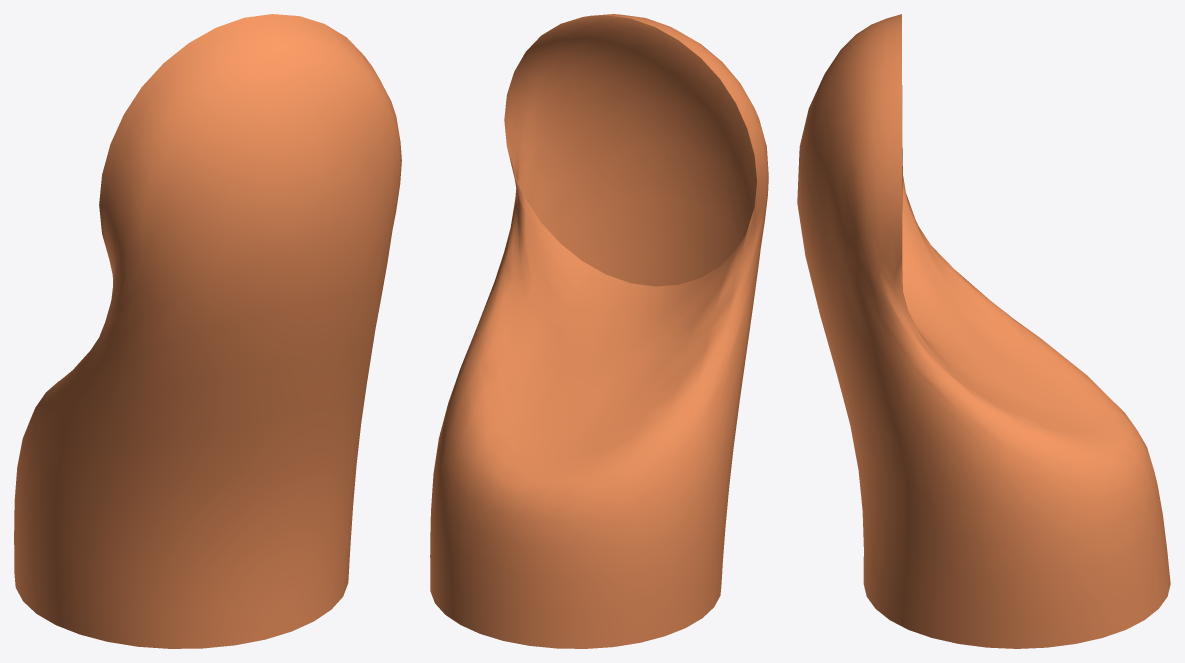
The model's file is arm_segment_last.dae.
3 views of the same model, side by side, from view 1: azimuth 30°, elevation 25°; view 2: azimuth 150°, elevation 25°; view 3: azimuth 270°, elevation 25° (orthographic). The views are drawn at different scales.
Parts seen in each view (by area): view 1: last_segment; view 2: last_segment; view 3: last_segment.
Part boxes in pixels (x1,y1,x2,y2): last_segment: [14, 14, 401, 648]; last_segment: [430, 14, 768, 648]; last_segment: [797, 14, 1170, 648].
Bounding box in the file's own units: 0.1253 × 0.1473 × 0.2421.
